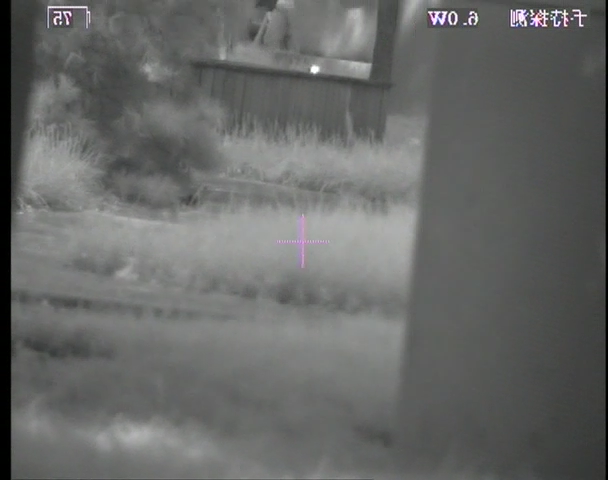my: (309, 63, 320, 75)
